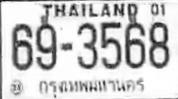3: (76, 22, 97, 68)
5: (100, 21, 121, 68)
6: (11, 22, 32, 70), (124, 21, 145, 68)
8: (148, 21, 169, 68)
9: (35, 21, 56, 69)
BKK: (34, 74, 146, 98)
